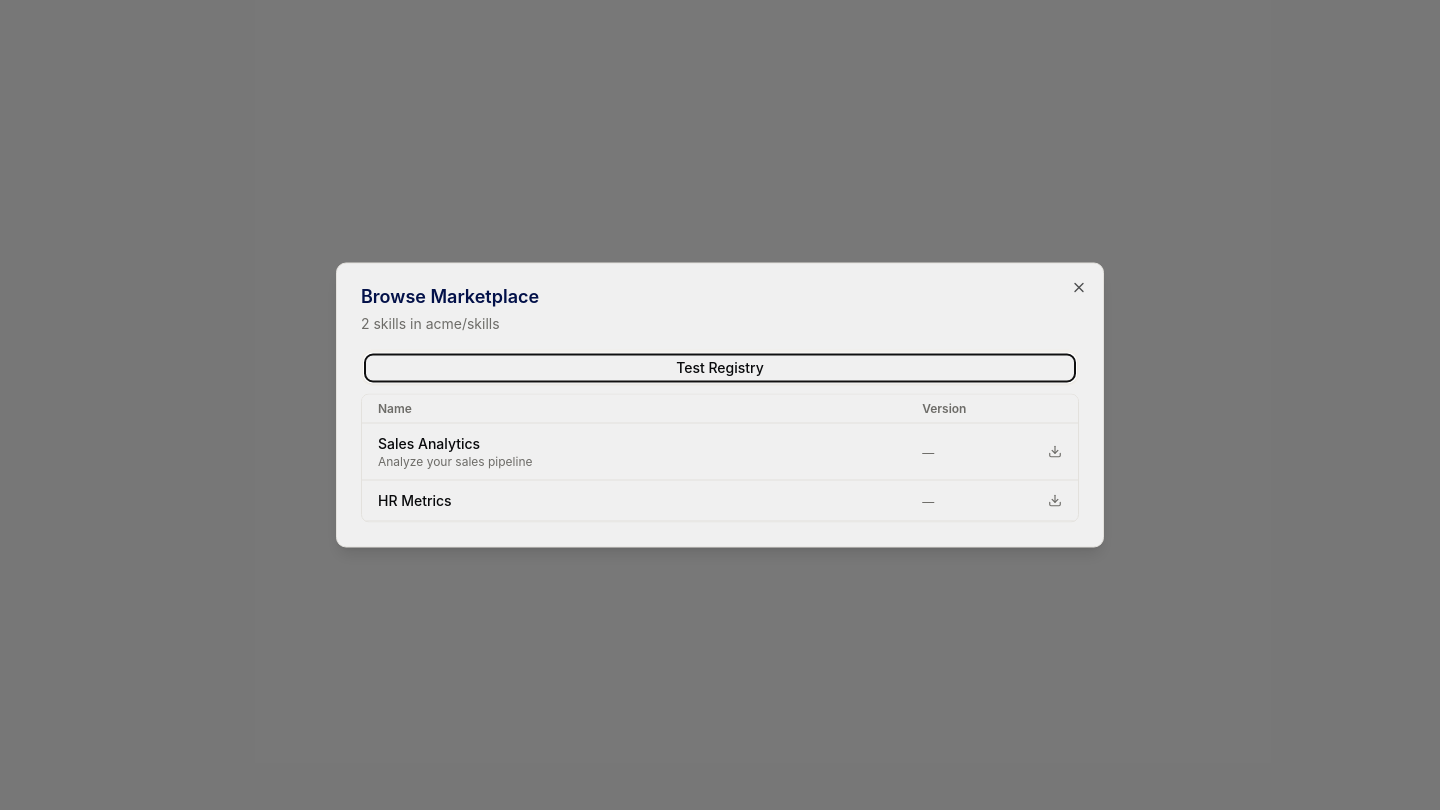
Test case: GitHubImportDialog › Skill list › shows description in edit form when edit button is clicked
The width and height of the screenshot is (1440, 810).
expect the text "Sales Analytics" is shown: met, box [378, 434, 480, 454]
Note: Click the pencil edit button for the first skill
Step 1. Click the button named "Install Sales Analytics" → [1055, 452], box [1048, 444, 1062, 458]
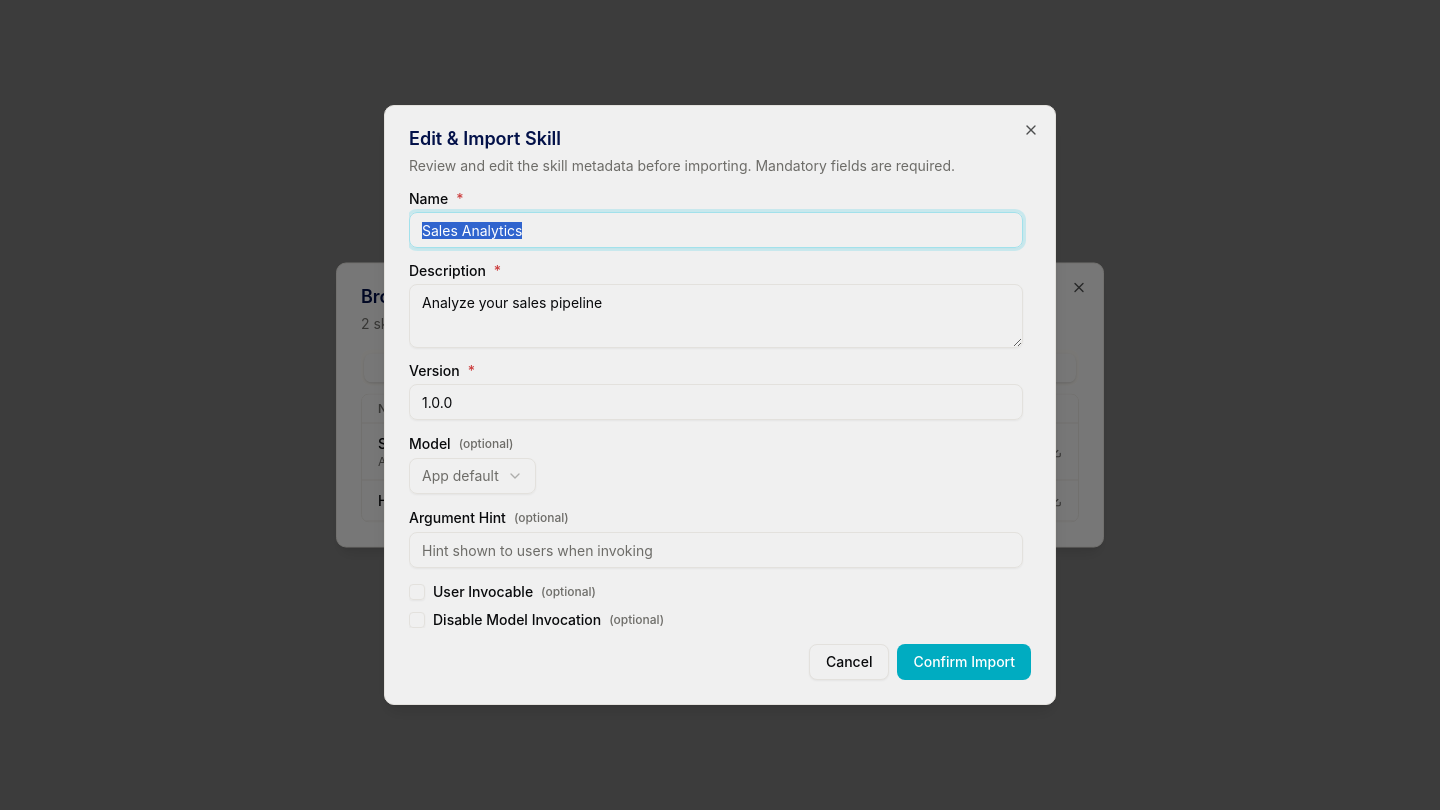
expect the heading "Edit & Import Skill" is shown: met, box [409, 128, 561, 149]
expect the text box showing "Analyze your sales pipeline" is shown: met, box [409, 284, 1023, 348]
